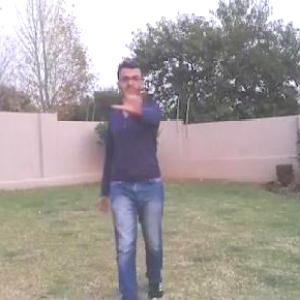follow_hand: (110, 76, 148, 115)
